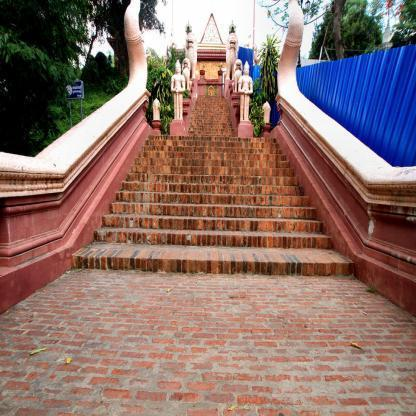stair: (103, 120, 337, 286)
